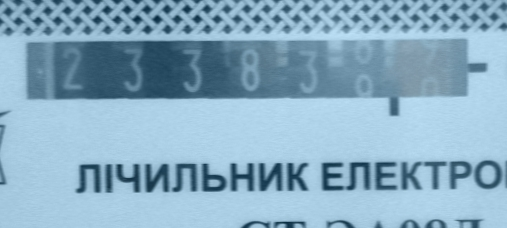0: (417, 72, 443, 97)
2: (58, 43, 86, 92)
3: (119, 44, 147, 94), (180, 45, 205, 95), (296, 45, 321, 94)
8: (238, 46, 263, 92), (350, 38, 378, 65)
9: (350, 69, 377, 98), (417, 37, 442, 66)
screen: (14, 24, 487, 122)
